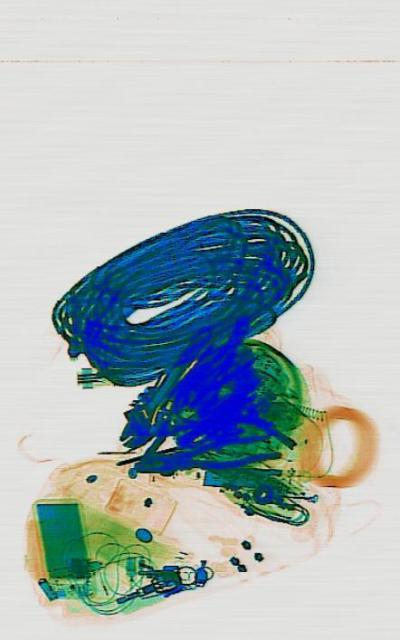Pliers: (131, 424, 279, 486)
Wrench: (109, 306, 219, 464)
